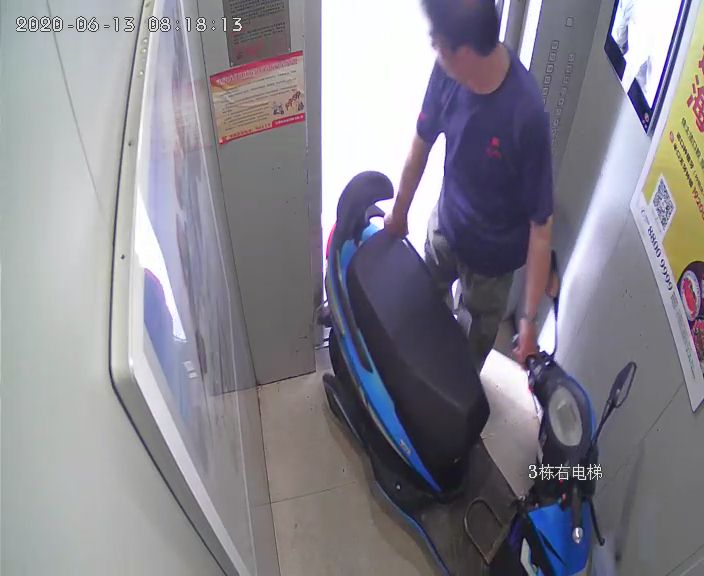Electric-bicycle: (317, 168, 635, 575)
